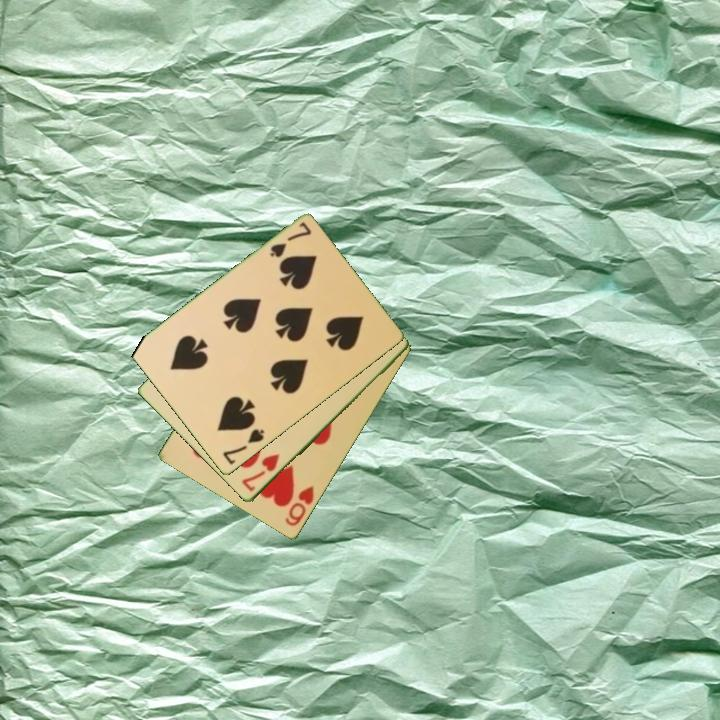6h: (281, 482, 317, 530)
7h: (238, 450, 283, 495)
7s: (219, 425, 268, 468), (266, 218, 314, 261)
